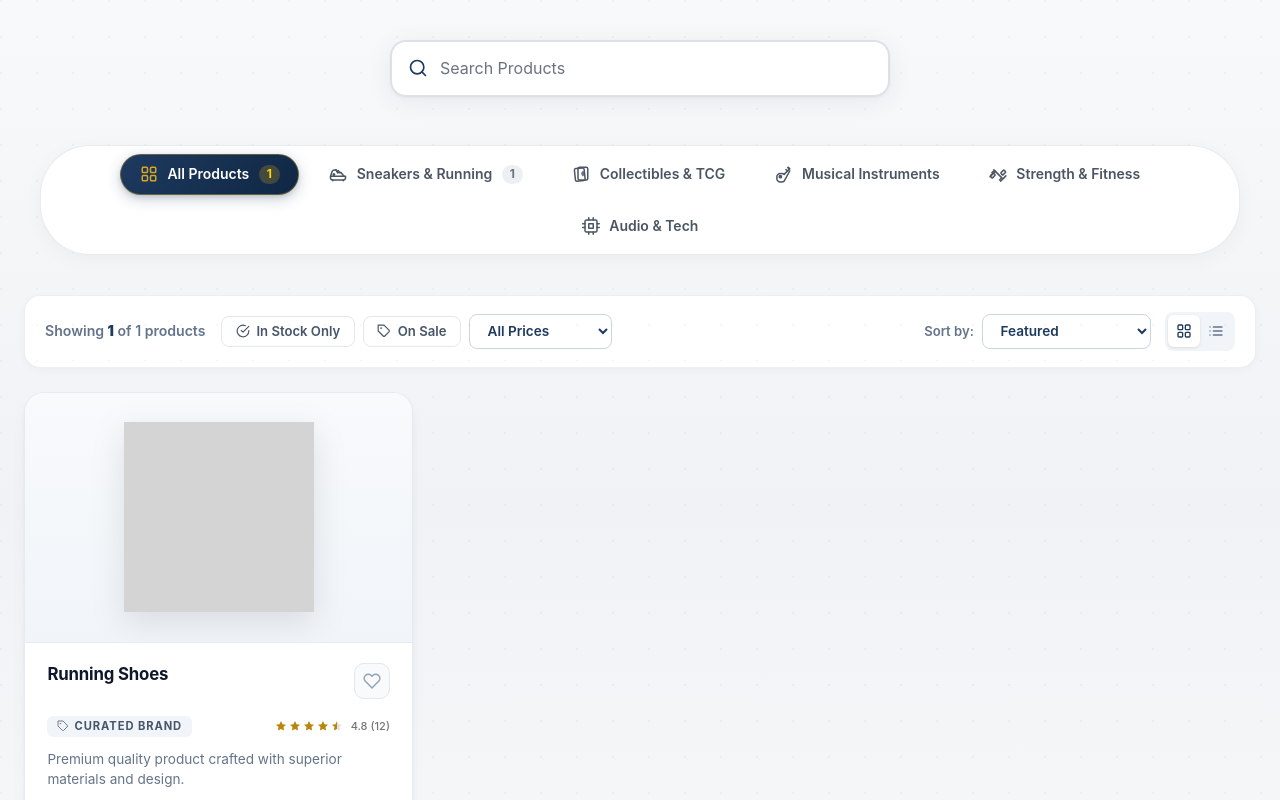
Test: Product Catalog Resilience & Error States › renders filter empty state with reset button when active filters eliminate all products
The image size is (1280, 800).
# Filter by Collectibles tab where our product does not match
Click the tab "Collectibles & TCG" at [649, 174], box [553,154,745,195]
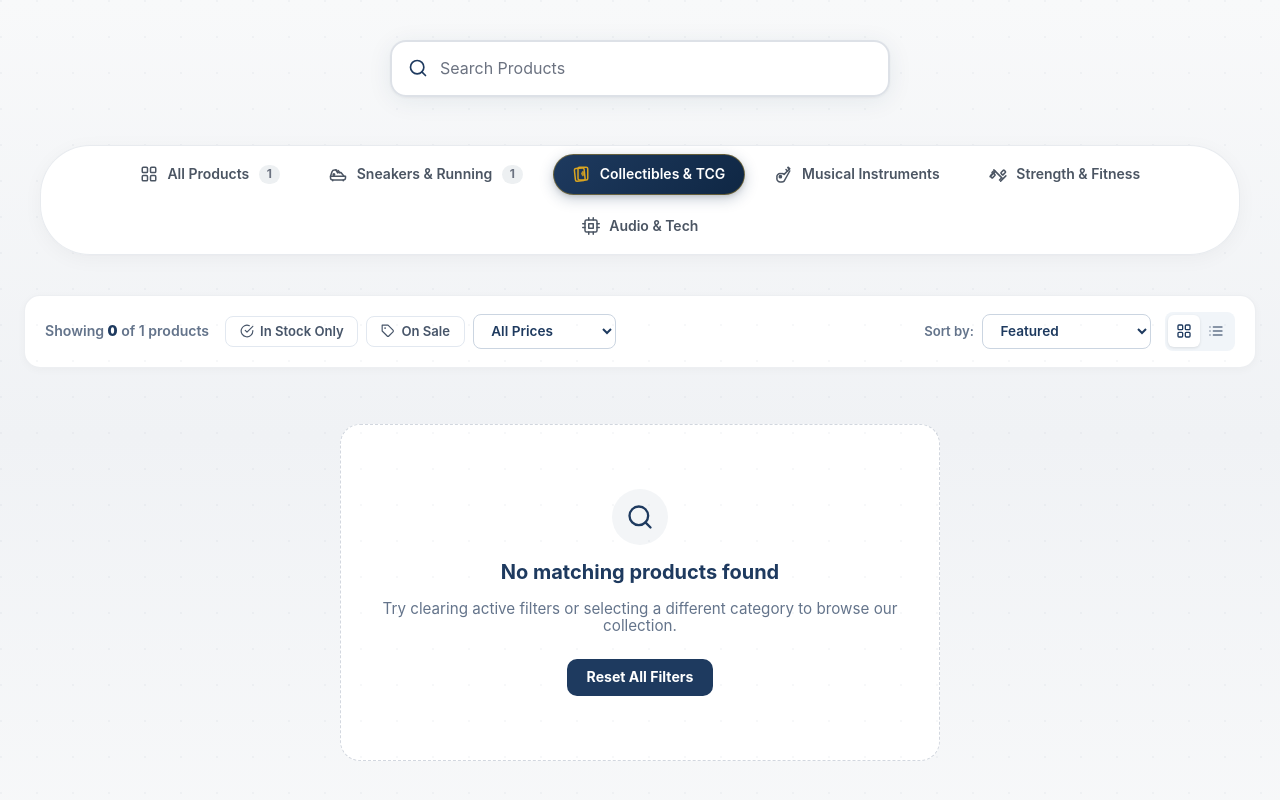
Expected: the element with test id "products-empty-state" is shown, [340,424,940,760]
Expected: the heading "No matching products found" is shown, [501,561,779,584]
# Click Reset All Filters
Click the button "Reset All Filters" at [640, 677], box [567,658,713,696]
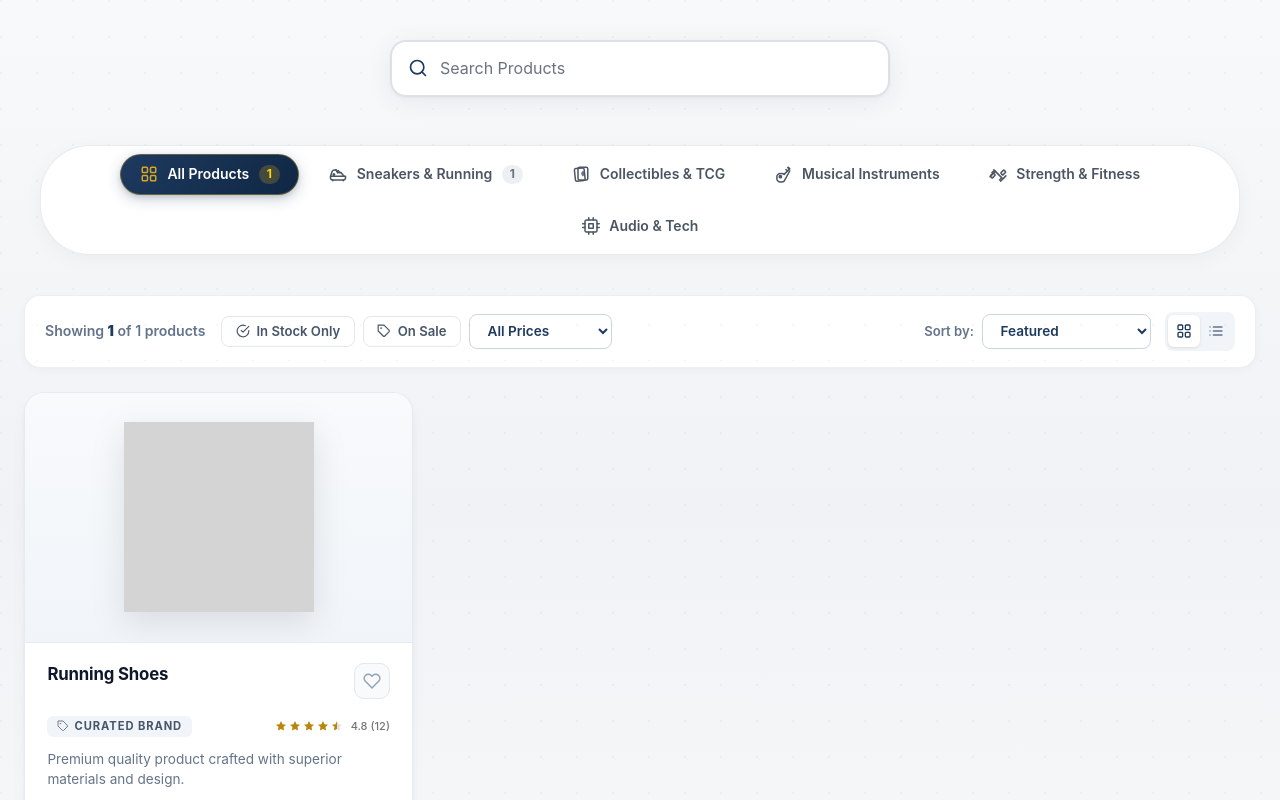
Expected: the heading "Running Shoes" is shown, [47,664,168,684]
